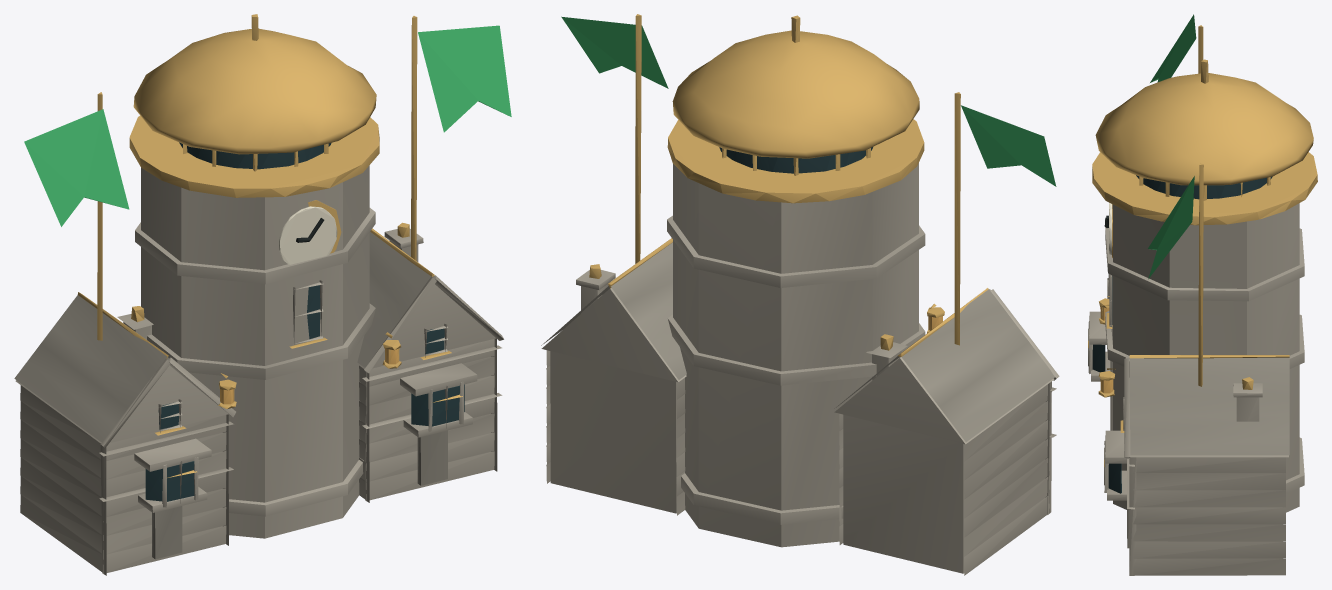
The model's file is pirate_capital_academy.glb.
The picture shows the model from 3 angles, left to right: view 1: azimuth 30°, elevation 25°; view 2: azimuth 150°, elevation 25°; view 3: azimuth 270°, elevation 25°; orthographic projection. The views are drawn at different scales.
Visible parts, largest first — view 1: WoodBody, BrassTrim, FixedDetails; view 2: WoodBody, BrassTrim, FixedDetails; view 3: WoodBody, BrassTrim, FixedDetails.
Boxes of the visible parts, bbox=[...] form: WoodBody: bbox=[14, 165, 503, 575]; BrassTrim: bbox=[77, 14, 462, 477]; FixedDetails: bbox=[24, 25, 511, 501]; WoodBody: bbox=[541, 163, 1059, 575]; BrassTrim: bbox=[589, 14, 988, 356]; FixedDetails: bbox=[561, 16, 1056, 330]; WoodBody: bbox=[1088, 203, 1304, 575]; BrassTrim: bbox=[1088, 25, 1317, 466]; FixedDetails: bbox=[1092, 14, 1272, 493].
Size of the model in its own units: 0.524 by 0.5002 by 0.2439.
